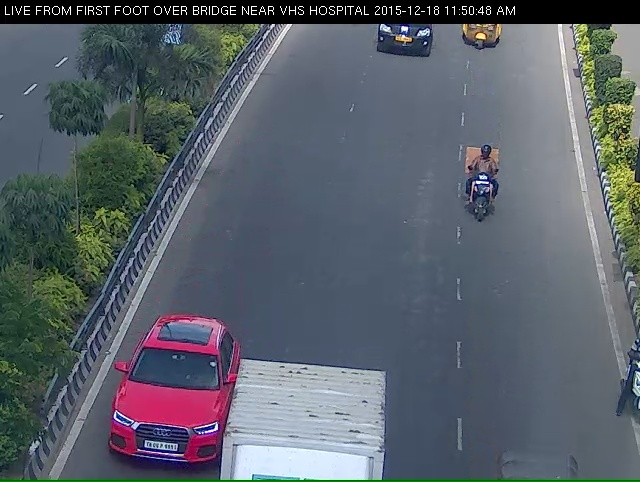Car: (101, 349, 220, 476), (372, 22, 442, 72), (457, 21, 510, 61)
Person: (456, 149, 507, 235)
